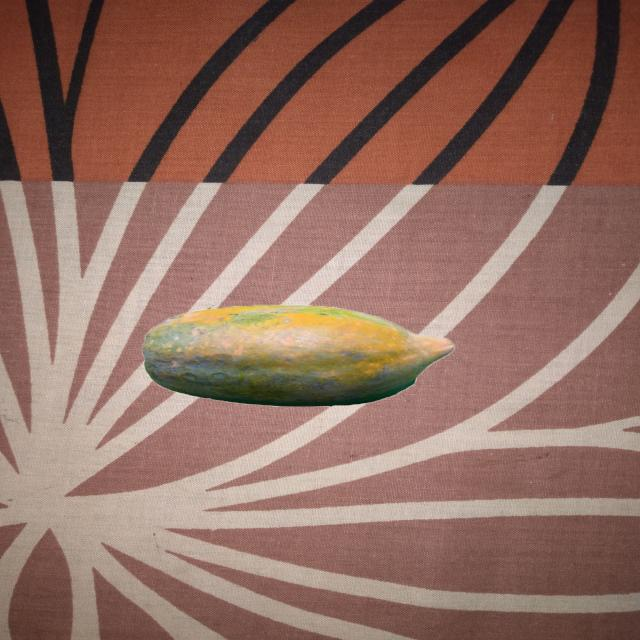Pepaya rippen: (132, 300, 458, 408)
